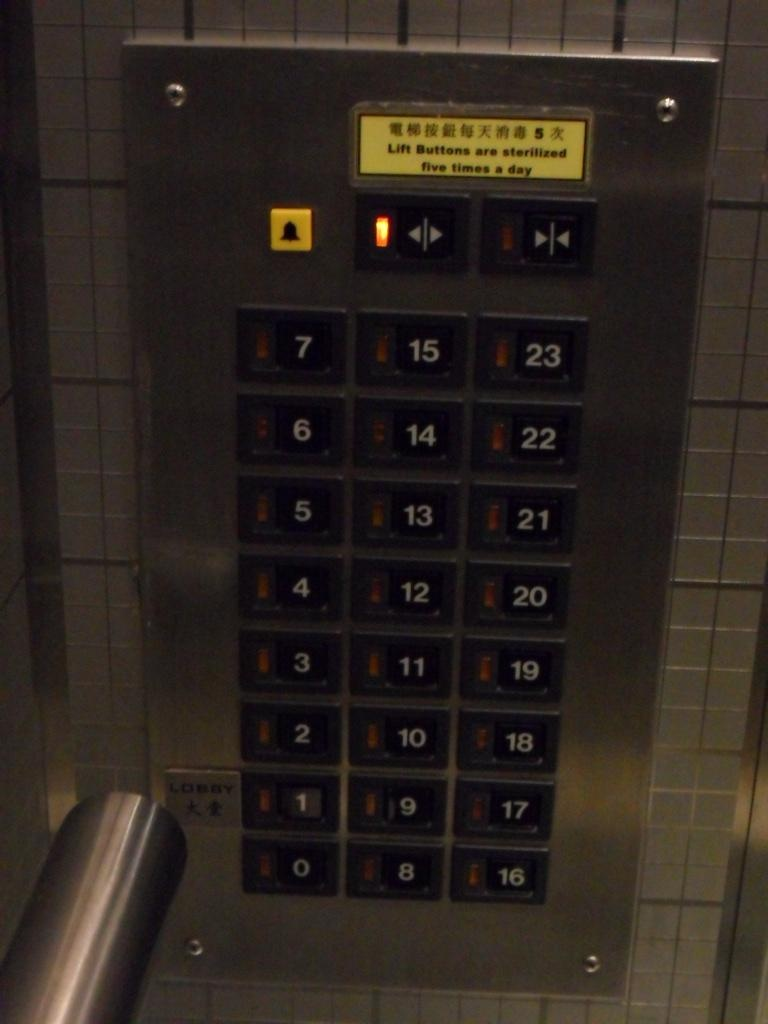0: (242, 838, 340, 898)
1: (240, 770, 342, 835)
10: (348, 702, 449, 769)
11: (349, 631, 453, 700)
12: (350, 554, 457, 626)
13: (350, 474, 462, 551)
14: (353, 393, 464, 471)
15: (355, 306, 467, 391)
16: (450, 842, 549, 905)
17: (453, 777, 555, 841)
18: (457, 706, 559, 774)
19: (459, 634, 567, 703)
2: (240, 699, 345, 767)
20: (462, 558, 572, 631)
21: (466, 481, 577, 554)
22: (470, 399, 584, 477)
23: (474, 310, 588, 395)
3: (238, 626, 344, 698)
4: (236, 552, 345, 623)
5: (236, 475, 346, 544)
6: (236, 394, 345, 468)
7: (238, 303, 346, 384)
8: (345, 838, 444, 900)
9: (345, 770, 448, 838)
alarm: (268, 207, 314, 252)
close: (483, 194, 595, 279)
open: (350, 188, 472, 276)
